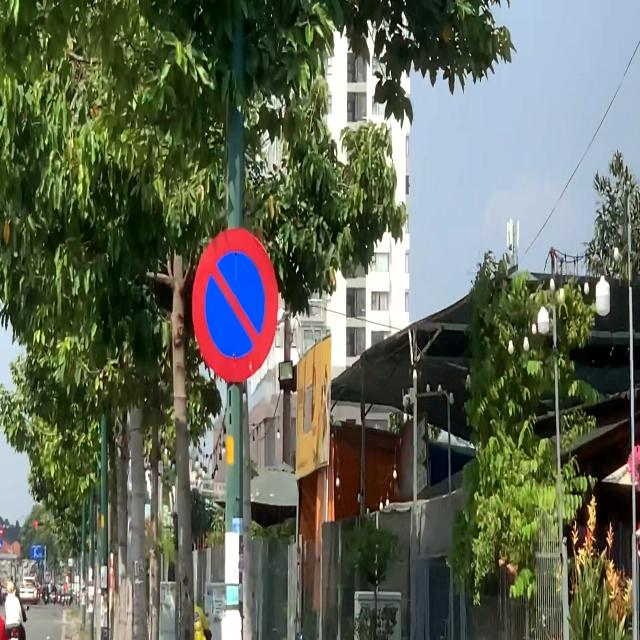P.131a: (191, 229, 278, 388)
